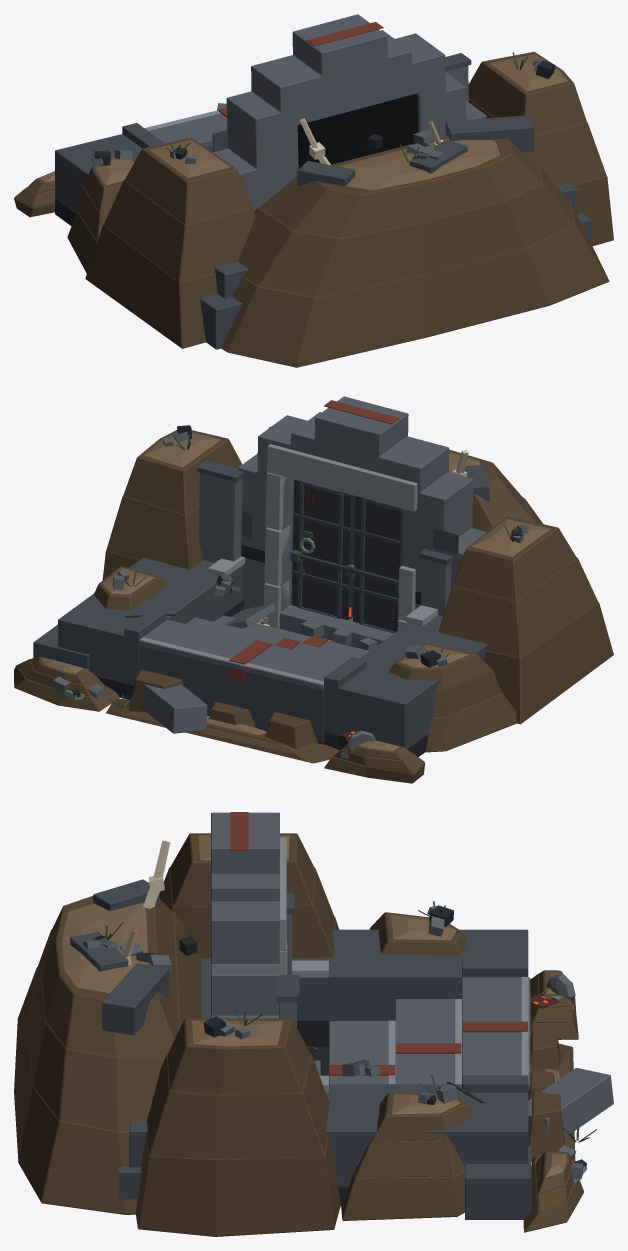
3 views of the same model, one above another, from view 1: azimuth 30°, elevation 25°; view 2: azimuth 150°, elevation 25°; view 3: azimuth 270°, elevation 25° (orthographic). The views are drawn at different scales.
Visible parts, largest first — view 1: DG-earth_dark, DG-ancient, DG-ancient_mid, DG-earth, DG-void, DG-ancient_dark, DG-team, DG-bone; view 2: DG-earth_dark, DG-ancient, DG-ancient_mid, DG-door_stone, DG-ancient_pale, DG-earth, DG-ancient_dark, DG-team, DG-iron; view 3: DG-earth_dark, DG-ancient_mid, DG-ancient, DG-earth, DG-ancient_pale, DG-ancient_dark, DG-team, DG-bone.
Boxes of the visible parts, x1,y1,x2,y2 form: DG-earth_dark: (14, 51, 613, 367); DG-ancient: (89, 14, 544, 210); DG-ancient_mid: (55, 53, 591, 349); DG-earth: (39, 54, 567, 190); DG-void: (297, 93, 417, 168); DG-ancient_dark: (55, 60, 555, 225); DG-team: (218, 22, 383, 117); DG-bone: (300, 118, 443, 164); DG-earth_dark: (14, 430, 613, 783); DG-ancient: (52, 396, 528, 758); DG-ancient_mid: (33, 427, 489, 748); DG-door_stone: (291, 479, 400, 631); DG-ancient_pale: (140, 444, 437, 684); DG-earth: (42, 432, 550, 750); DG-ancient_dark: (72, 425, 522, 756); DG-team: (228, 400, 399, 682); DG-iron: (291, 482, 402, 602); DG-earth_dark: (14, 833, 583, 1236); DG-ancient_mid: (70, 879, 531, 1219); DG-ancient: (83, 812, 613, 1179); DG-earth: (62, 835, 567, 1177); DG-ancient_pale: (280, 837, 528, 1092); DG-ancient_dark: (92, 905, 586, 1205); DG-team: (230, 812, 527, 1075); DG-bone: (126, 840, 170, 965).
Size of the model in its own units: 10.08 by 4.94 by 9.93.
